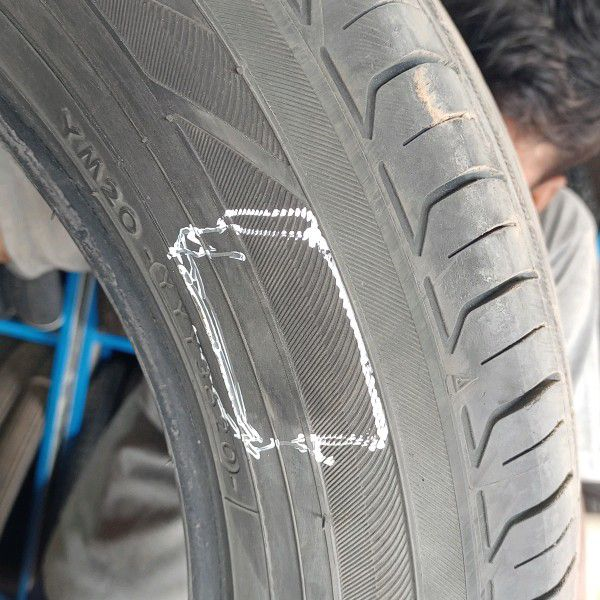CBU: (238, 295, 336, 421)
